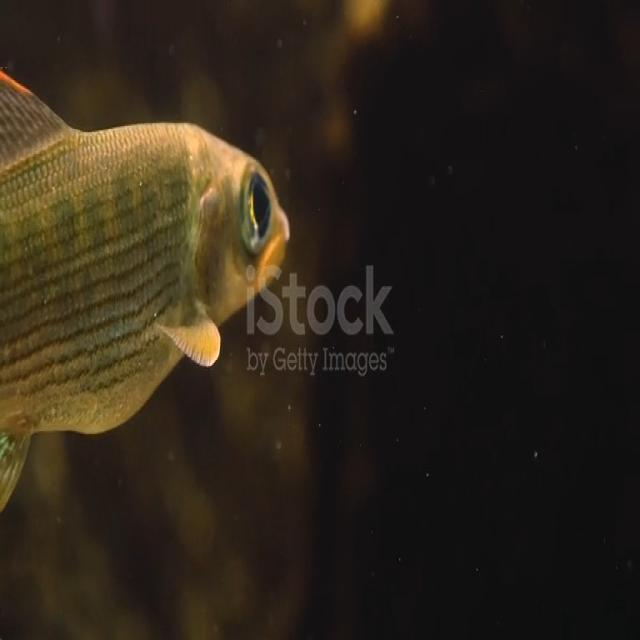fish: (0, 66, 289, 508)
